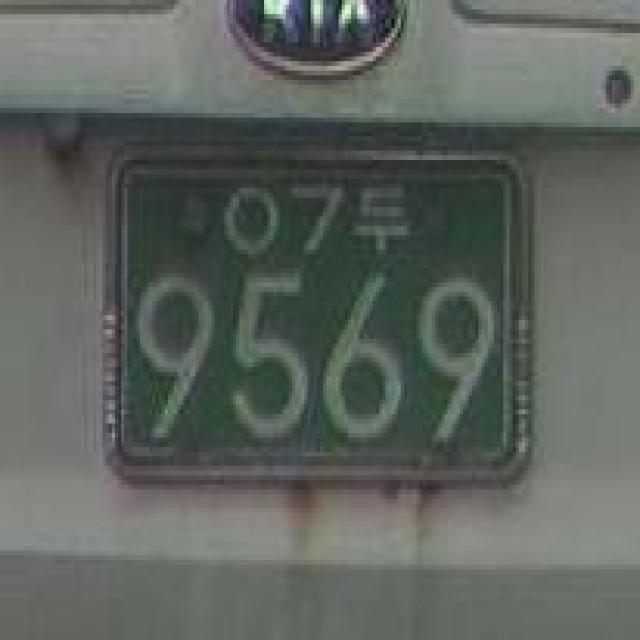illegal_plate: (89, 130, 541, 514)
